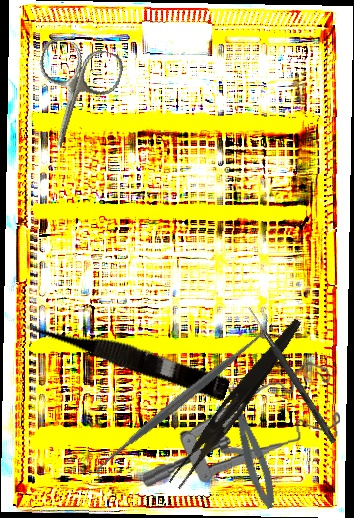Dressing Forceps: (167, 312, 305, 494)
Hook Surgical: (244, 306, 339, 444)
Iris Scissors: (17, 34, 127, 163)
Micro Scissor: (23, 309, 233, 402), (221, 378, 281, 512)
Spatula Surgical: (83, 313, 283, 483)
Speculum: (137, 360, 343, 488)
